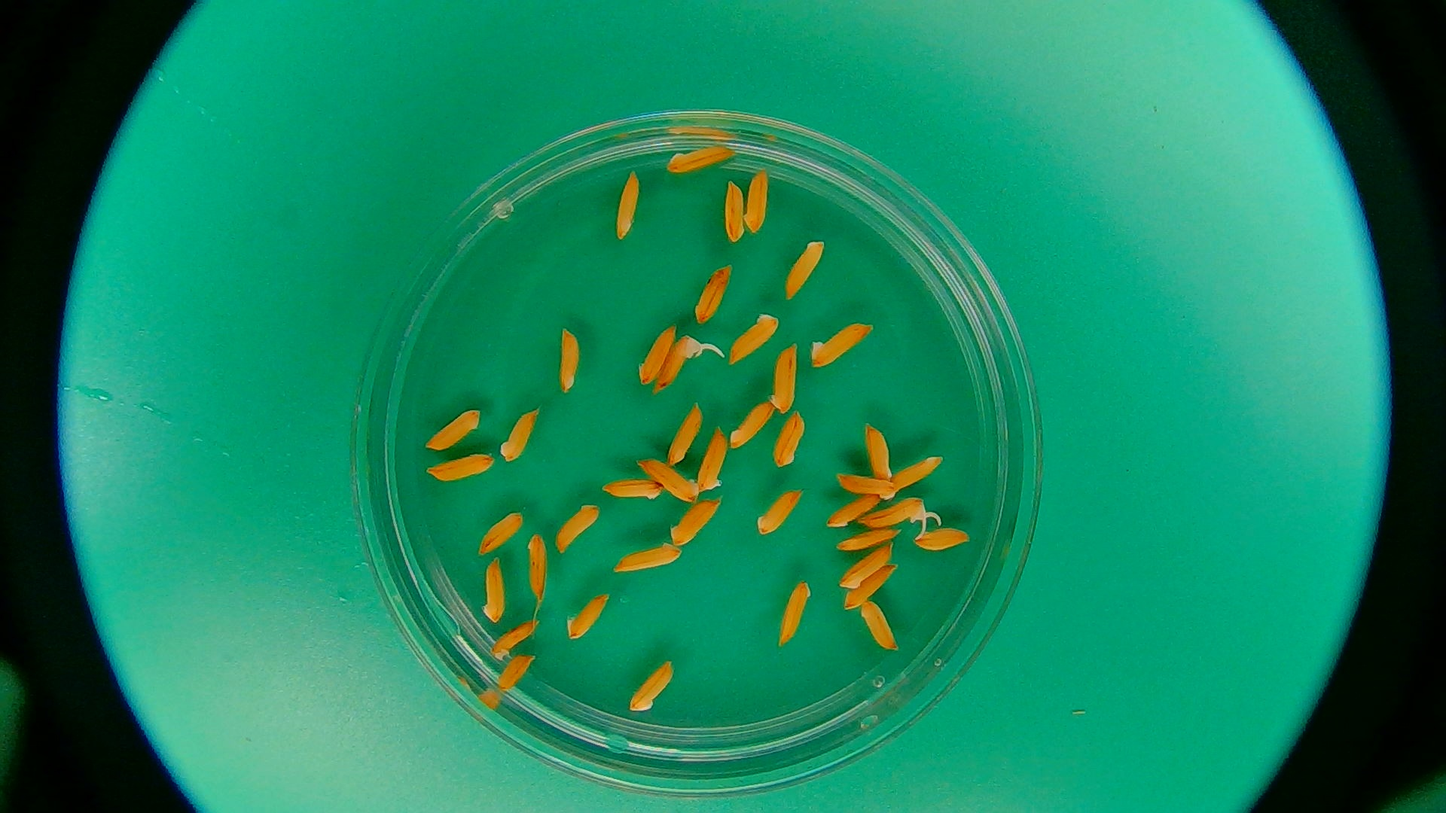no: (809, 320, 876, 370), (498, 403, 545, 465), (628, 659, 679, 714), (639, 459, 703, 501), (729, 313, 778, 366), (423, 408, 481, 452), (613, 541, 683, 576), (666, 403, 703, 468), (670, 500, 725, 543), (784, 240, 823, 299), (845, 567, 898, 610), (859, 599, 901, 653), (478, 507, 524, 556), (728, 398, 772, 449), (555, 501, 598, 553), (486, 623, 537, 665), (825, 490, 881, 528), (756, 490, 801, 537), (697, 429, 728, 496), (694, 266, 731, 322), (615, 168, 643, 242), (425, 452, 493, 482), (839, 549, 890, 589), (637, 330, 674, 384), (492, 651, 543, 690), (779, 580, 811, 641), (773, 412, 806, 469), (833, 525, 905, 551), (769, 346, 797, 412), (524, 534, 552, 599), (745, 169, 772, 236), (566, 595, 607, 639), (862, 424, 895, 478), (667, 148, 738, 173), (836, 473, 897, 501), (894, 455, 944, 489), (480, 560, 507, 622), (558, 325, 581, 394), (722, 179, 744, 248), (600, 479, 663, 503), (915, 526, 967, 551)
yes: (865, 497, 931, 534), (656, 336, 700, 386)
